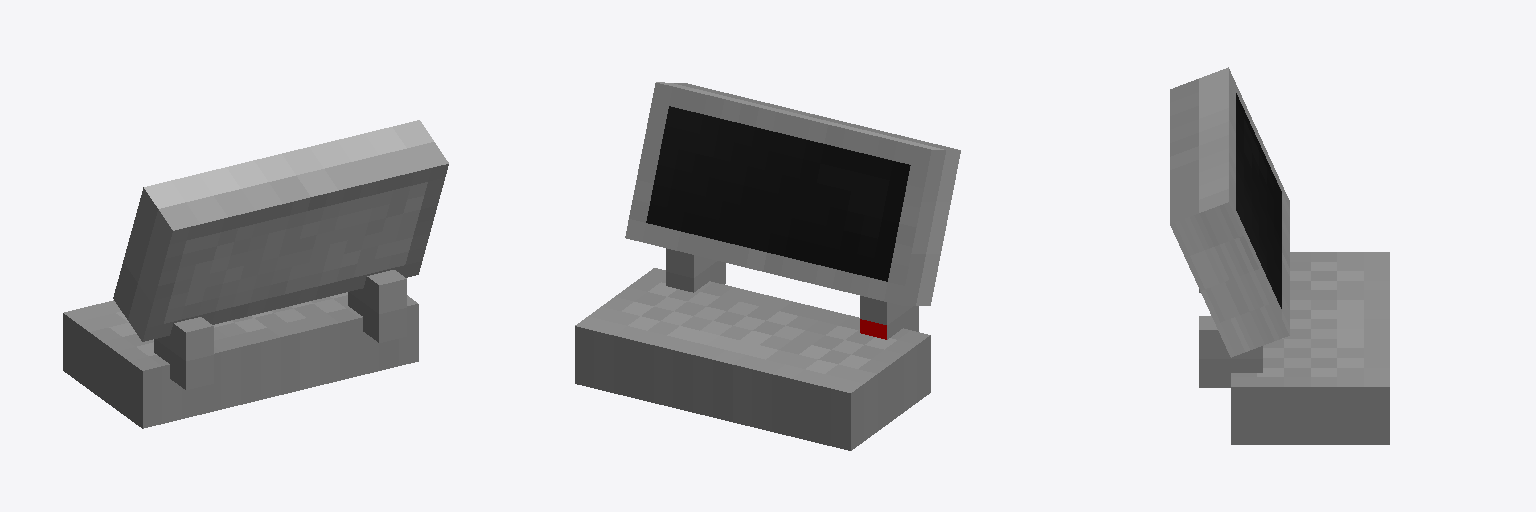
3 renders of one model, left to right at view 1: azimuth 30°, elevation 25°; view 2: azimuth 150°, elevation 25°; view 3: azimuth 270°, elevation 25°, orthographic.
Visible parts, largest first — view 1: screen, keyboard, power_button, pillar; view 2: screen, keyboard, pillar, power_button; view 3: screen, keyboard, pillar.
Part boxes in pixels (left/top/right/bottom): screen: left=113, top=120, right=448, bottom=341; keyboard: left=63, top=292, right=418, bottom=428; power_button: left=154, top=317, right=213, bottom=389; pillar: left=348, top=270, right=406, bottom=342; screen: left=625, top=82, right=960, bottom=305; keyboard: left=575, top=268, right=930, bottom=450; pillar: left=666, top=248, right=725, bottom=292; power_button: left=860, top=296, right=918, bottom=339; screen: left=1170, top=67, right=1289, bottom=357; keyboard: left=1231, top=252, right=1389, bottom=444; pillar: left=1199, top=316, right=1262, bottom=387.
Size of the model in its own units: 0.625 by 0.524 by 0.4321.
Materials: 2 (2 with a texture image).